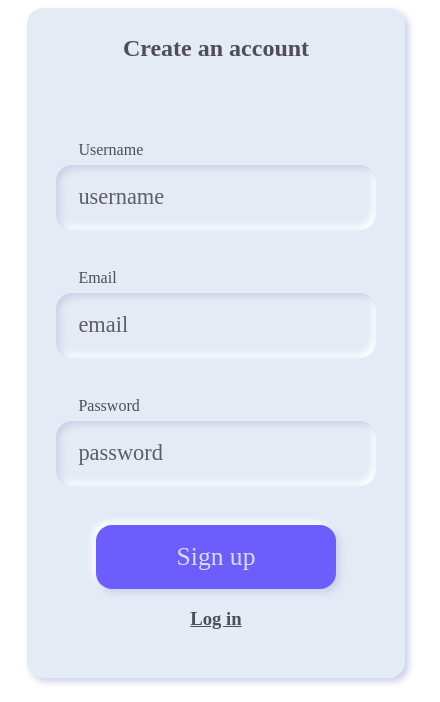
Test: Registration page › should have server validation
The width and height of the screenshot is (440, 702).
Type "testtesttest" into the field labelled "Username". click: (216, 197)
box: [56,165,376,230]
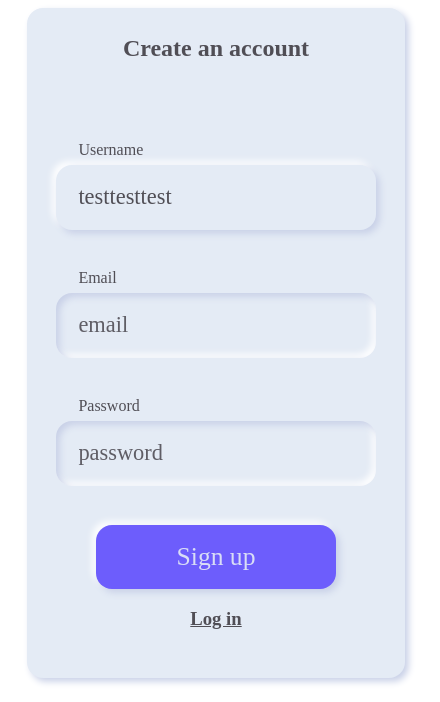
Type "testtesttest" into the field labelled "Password". click: (216, 453)
box: [56,421,376,486]
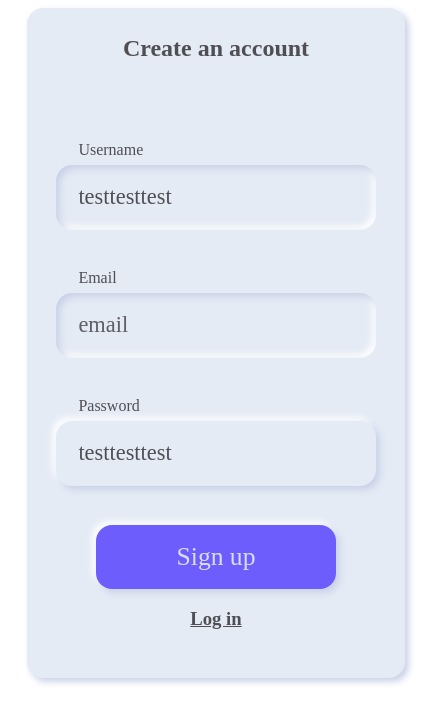
Type "test@test.com" into the field labelled "Email". click: (216, 325)
box: [56,293,376,358]
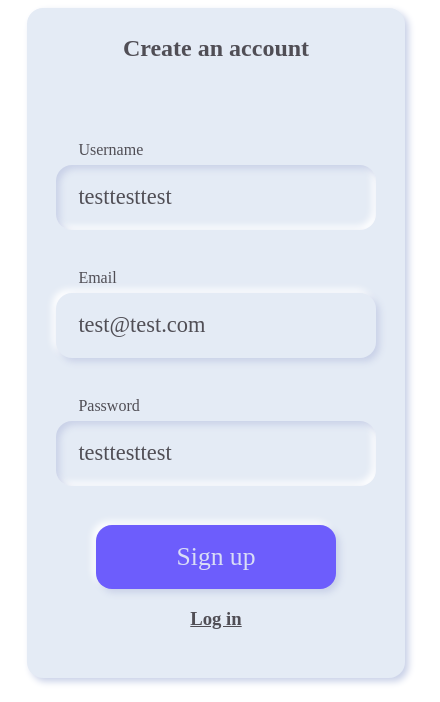
Click the button "Sign up". click: (216, 557)
box: [96,525,336,589]
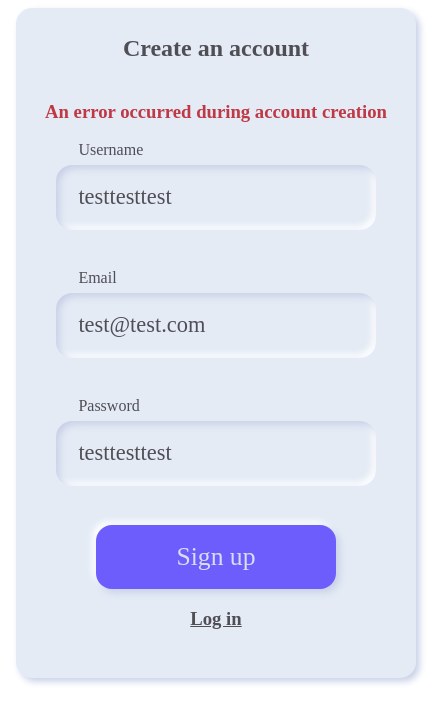
Result: the text "An error occurred during account creation" is shown at [45,101,387,122]
